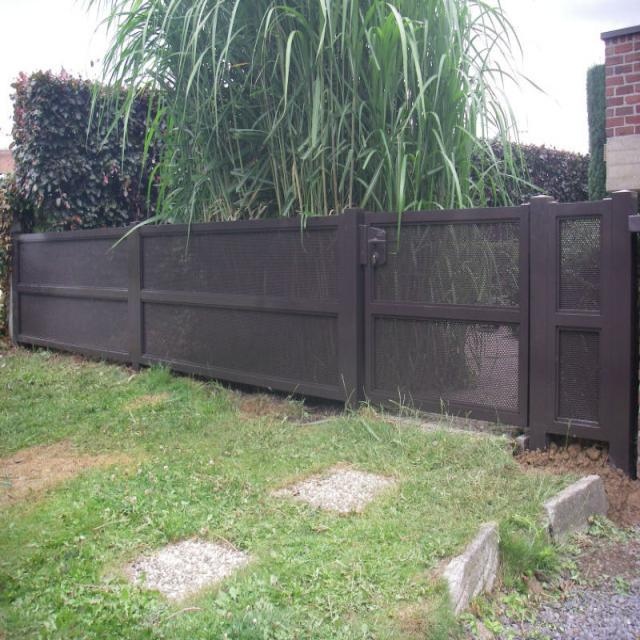fence line: (19, 222, 622, 450), (345, 179, 640, 448)
